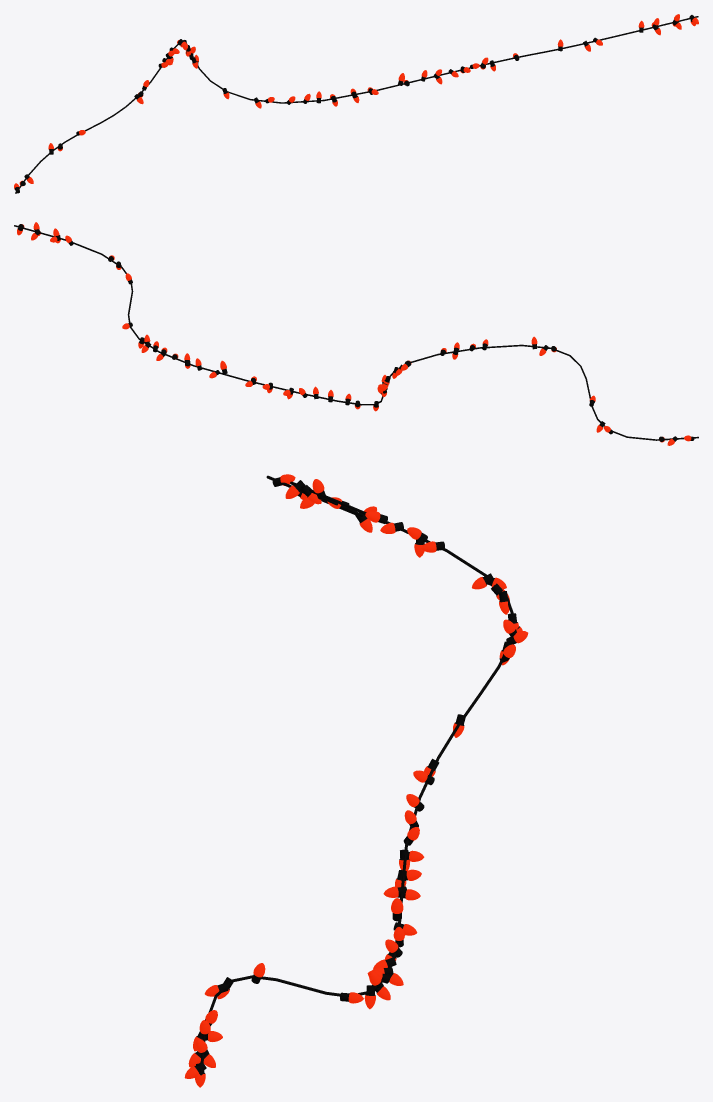
Rendered from Lights.fbx.
The picture shows the model from 3 angles, top to bottom: view 1: azimuth 30°, elevation 25°; view 2: azimuth 150°, elevation 25°; view 3: azimuth 270°, elevation 25°; orthographic projection. The views are drawn at different scales.
Visible parts, largest first — view 1: BezierCurve; view 2: BezierCurve; view 3: BezierCurve.
Part boxes in pixels (left/top/right/bottom): BezierCurve: left=15, top=16, right=698, bottom=193; BezierCurve: left=14, top=225, right=698, bottom=440; BezierCurve: left=199, top=475, right=513, bottom=1075.
Bounding box in the file's own units: 730 × 99.1 × 163.
